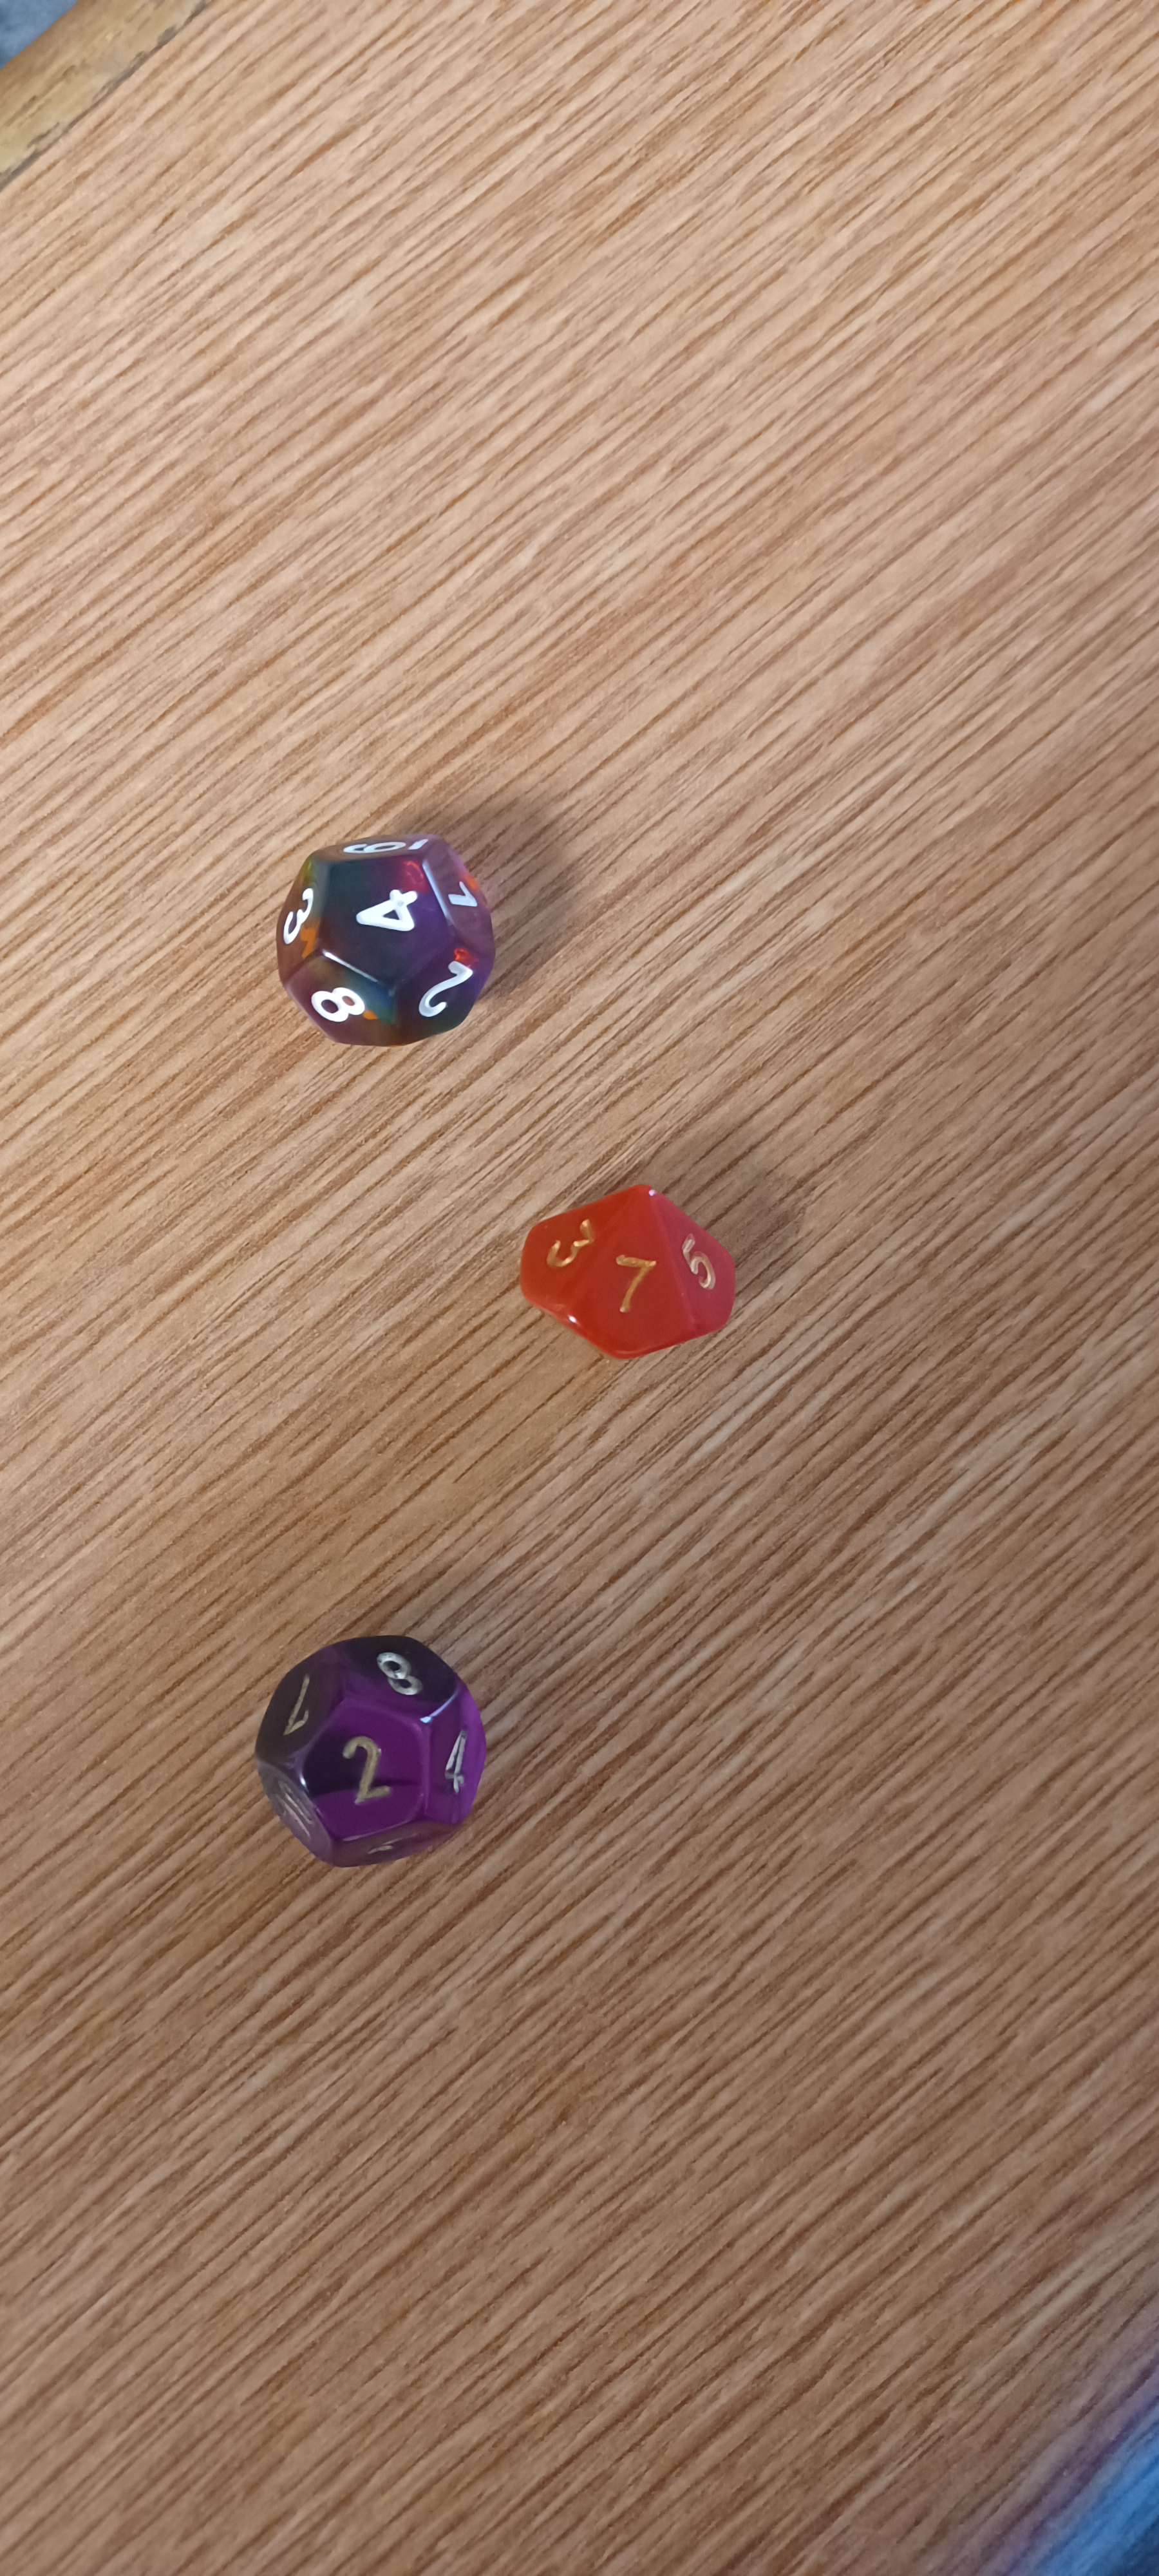four: (264, 800, 535, 1055)
seven: (470, 1142, 773, 1385)
two: (222, 1607, 547, 1896)
